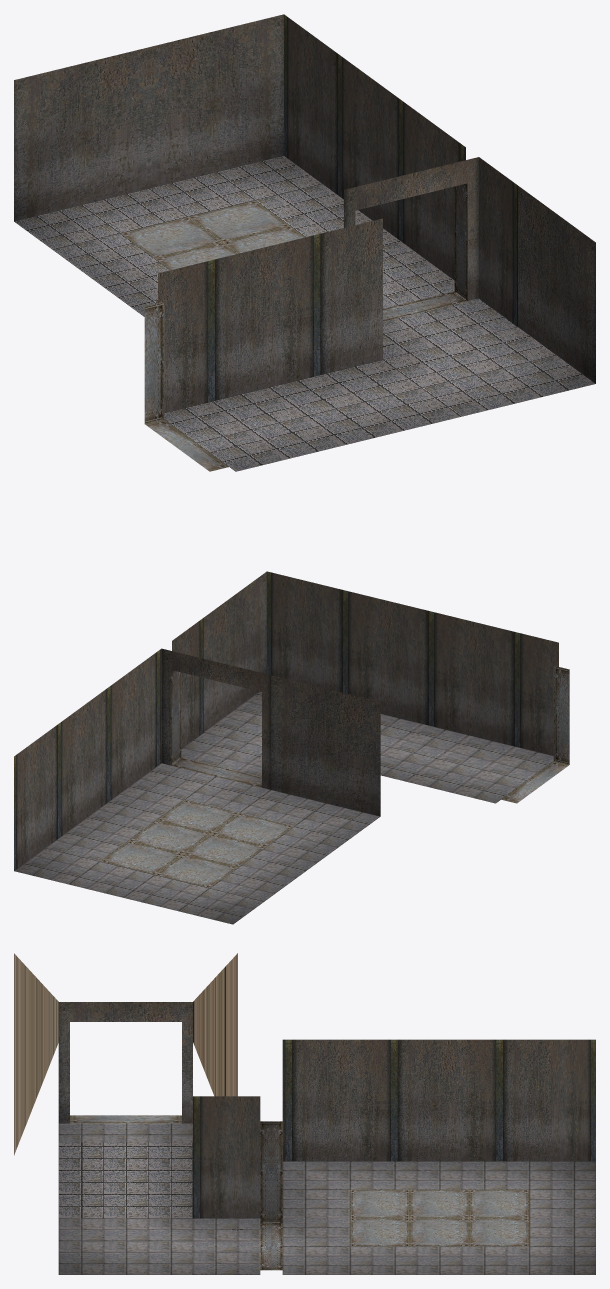
File: M11B_OuterWallRoom01.glb
The picture shows the model from 3 angles, top to bottom: view 1: azimuth 30°, elevation 25°; view 2: azimuth 150°, elevation 25°; view 3: azimuth 270°, elevation 25°; orthographic projection. The views are drawn at different scales.
Parts seen in each view (by area): view 1: M11B_OUTERWALLROOM01; view 2: M11B_OUTERWALLROOM01; view 3: M11B_OUTERWALLROOM01.
Part boxes in pixels (x1=…): M11B_OUTERWALLROOM01: x1=14, y1=14, x2=595, y2=471; M11B_OUTERWALLROOM01: x1=14, y1=571, x2=569, y2=924; M11B_OUTERWALLROOM01: x1=14, y1=953, x2=595, y2=1274.
Size of the model in its own units: 8.44 by 5 by 13.
5 materials, 5 textured.
